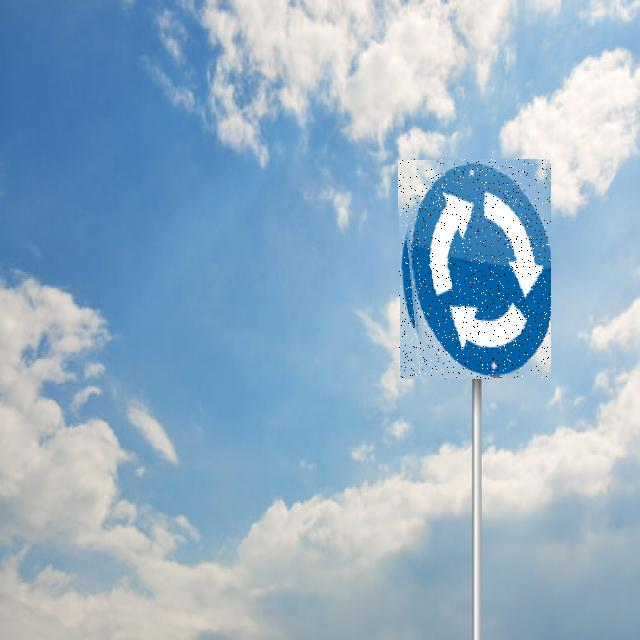roundabout: (399, 159, 551, 379)
